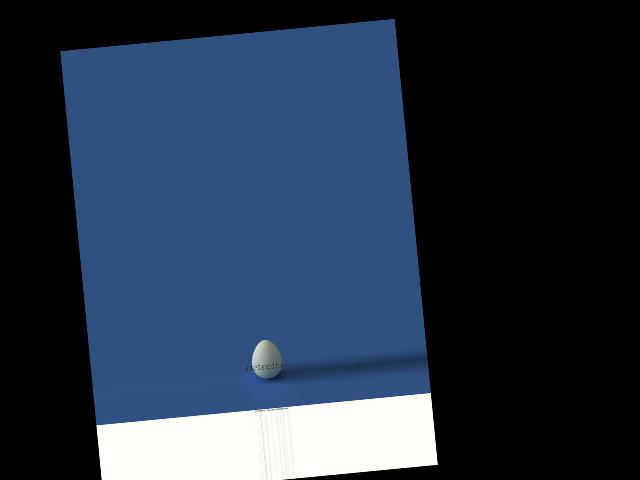egg: (249, 338, 283, 380)
